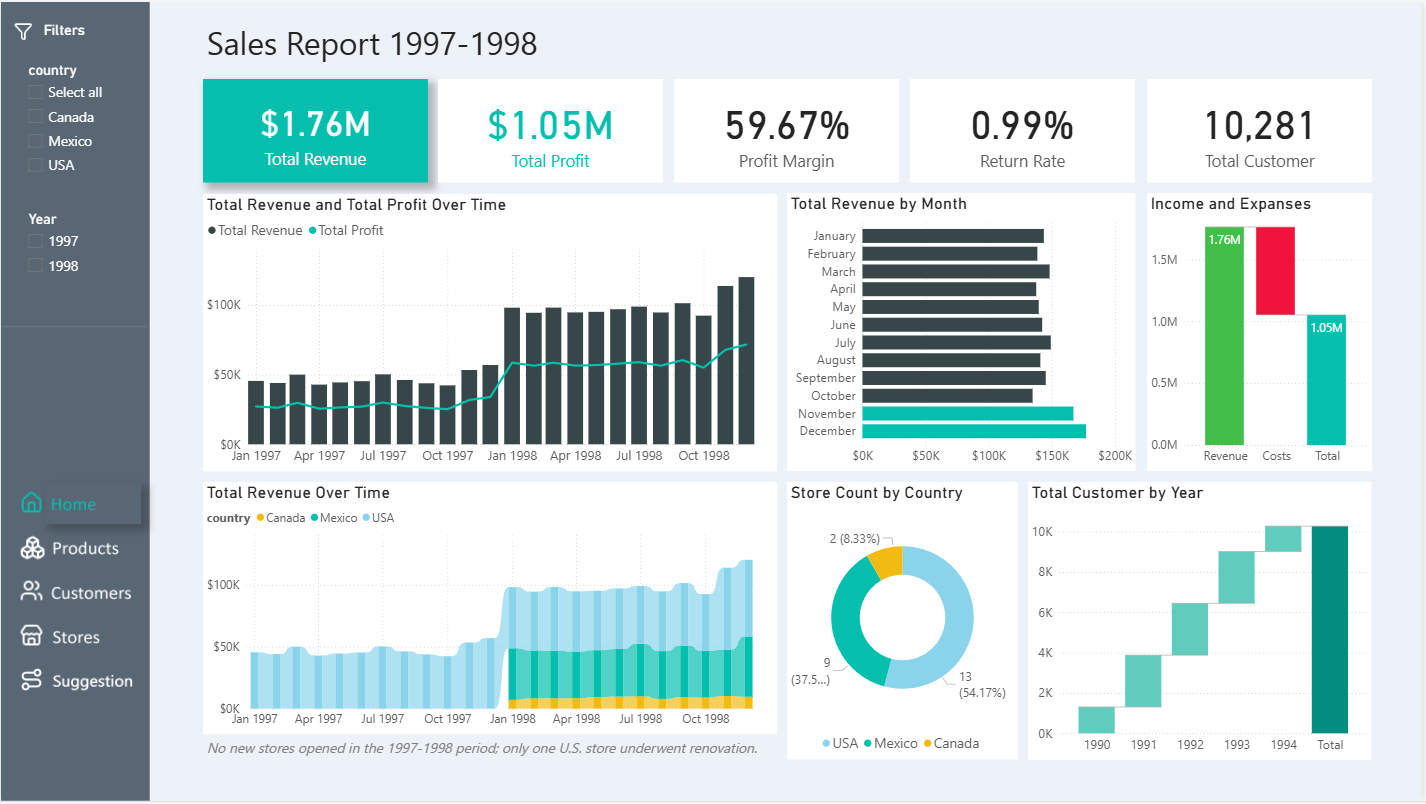

Layout of this report page (visuals, bound fields, positions):
{"tool":"powerbi","page":{"name":"Main Dashboard","canvas":[1920,1080],"ordinal":0},"visuals":[{"type":"card","fields":{"Values":["MeasureTable.Profit Margin"]},"box":[910,104.3,304.3,140],"z":0},{"type":"card","fields":{"Values":["MeasureTable.Total Revenue"]},"box":[272.9,104.3,304,140],"z":1000},{"type":"card","fields":{"Values":["MeasureTable.Total Profit"]},"box":[591,104.3,304.3,140],"z":2000},{"type":"shape","box":[0,0,201.3,1079.6],"z":3000},{"type":"card","fields":{"Values":["MeasureTable.Return Rate"]},"box":[1229,104.3,304.3,140],"z":4000},{"type":"textbox","box":[272.9,20,472.9,74.3],"z":5000},{"type":"slicer","fields":{"Values":["Regions.country"]},"box":[24.4,75.6,148.9,176.7],"z":6000},{"type":"slicer","fields":{"Values":["Calendar.Year"]},"box":[24.4,276.7,148.9,144.4],"z":7000},{"type":"image","box":[12.2,21.1,35.6,35.6],"z":8000},{"type":"textbox","box":[52.2,20,146.7,40],"z":9000},{"type":"shape","box":[0,421.4,197.1,34.3],"z":10000},{"type":"card","fields":{"Values":["MeasureTable.Total Customer"]},"box":[1548.6,104.3,304.3,140],"z":11000},{"type":"lineStackedColumnComboChart","title":"Total Revenue and Total Profit Over Time","fields":{"Category":["Calendar.Start of Month"],"Y":["MeasureTable.Total Revenue"],"Y2":["MeasureTable.Total Profit"]},"box":[272.8,259.7,776.2,375],"z":12000},{"type":"ribbonChart","title":"Total Revenue Over Time","fields":{"Category":["Calendar.Start of Month"],"Series":["Regions.country"],"Y":["MeasureTable.Total Revenue"]},"box":[272.8,649.2,776.2,341.4],"z":13000},{"type":"textbox","box":[272.8,990.6,776.2,70],"z":14000},{"type":"clusteredBarChart","title":"Total Revenue by Month","fields":{"Category":["Calendar.date.Variation.Date Hierarchy.Month"],"Y":["MeasureTable.Total Revenue"]},"box":[1062.1,258.2,471.2,376.4],"z":15000},{"type":"waterfallChart","title":"Income and Expanses","fields":{"Category":["Waterfall Bridge.Step Name"],"Y":["Waterfall Bridge.Waterfall Value"]},"box":[1548.6,258.6,304.3,375.7],"z":16000},{"type":"donutChart","fields":{"Y":["MeasureTable.Store Count"],"Category":["Regions.country"]},"box":[1062.1,649.2,312.2,375],"z":17000},{"type":"waterfallChart","title":"Total Customer by Year","fields":{"Y":["MeasureTable.Total Customer"],"Category":["Customers.account_open_year.Variation.Date Hierarchy.Year","Customers.account_open_year.Variation.Date Hierarchy.Quarter","Customers.account_open_year.Variation.Date Hierarchy.Month","Customers.account_open_year.Variation.Date Hierarchy.Day"]},"box":[1388.6,648.6,464.3,375.7],"z":18000},{"type":"image","box":[60,650,130,55],"z":19000},{"type":"image","box":[60,770,130,55],"z":20000},{"type":"image","box":[60,830,130,55],"z":21000},{"type":"image","box":[60,710,130,55],"z":22000},{"type":"image","box":[20,655,42,42],"z":23000},{"type":"image","box":[20,715,45,45],"z":24000},{"type":"image","box":[20,775,42,42],"z":25000},{"type":"image","box":[20,835,42,42],"z":26000},{"type":"image","box":[20,895,42.3,42.3],"z":27000},{"type":"image","box":[60,890,130,55],"z":28000}]}

Visuals, with their boxes on the page's 1920x1080 design canvas (x1, y1, x2, y2). These are canvas units, not pixel positions in the 1426x804 screenshot, which may show the page scaled, cropped or inside an application window:
card - MeasureTable.Profit Margin: l=910, t=104, r=1214, b=244
card - MeasureTable.Total Revenue: l=273, t=104, r=577, b=244
card - MeasureTable.Total Profit: l=591, t=104, r=895, b=244
shape: l=0, t=0, r=201, b=1080
card - MeasureTable.Return Rate: l=1229, t=104, r=1533, b=244
textbox: l=273, t=20, r=746, b=94
slicer - Regions.country: l=24, t=76, r=173, b=252
slicer - Calendar.Year: l=24, t=277, r=173, b=421
image: l=12, t=21, r=48, b=57
textbox: l=52, t=20, r=199, b=60
shape: l=0, t=421, r=197, b=456
card - MeasureTable.Total Customer: l=1549, t=104, r=1853, b=244
"Total Revenue and Total Profit Over Time" lineStackedColumnComboChart: l=273, t=260, r=1049, b=635
"Total Revenue Over Time" ribbonChart: l=273, t=649, r=1049, b=991
textbox: l=273, t=991, r=1049, b=1061
"Total Revenue by Month" clusteredBarChart: l=1062, t=258, r=1533, b=635
"Income and Expanses" waterfallChart: l=1549, t=259, r=1853, b=634
donutChart - MeasureTable.Store Count x Regions.country: l=1062, t=649, r=1374, b=1024
"Total Customer by Year" waterfallChart: l=1389, t=649, r=1853, b=1024
image: l=60, t=650, r=190, b=705
image: l=60, t=770, r=190, b=825
image: l=60, t=830, r=190, b=885
image: l=60, t=710, r=190, b=765
image: l=20, t=655, r=62, b=697
image: l=20, t=715, r=65, b=760
image: l=20, t=775, r=62, b=817
image: l=20, t=835, r=62, b=877
image: l=20, t=895, r=62, b=937
image: l=60, t=890, r=190, b=945
